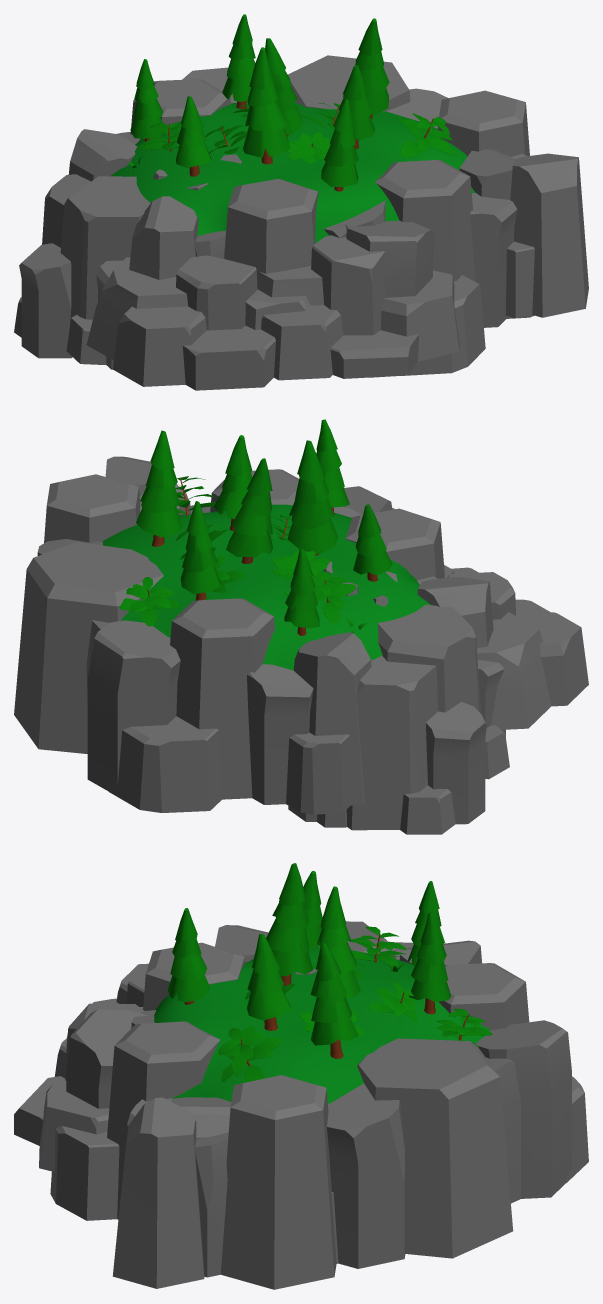
Rendered from Zone2_Empty_Island1.fbx.
The picture shows the model from 3 angles, top to bottom: view 1: azimuth 30°, elevation 25°; view 2: azimuth 150°, elevation 25°; view 3: azimuth 270°, elevation 25°; orthographic projection. The views are drawn at different scales.
Parts seen in each view (by area): view 1: rock_cliff131, rock_cliff129, rock_cliff128, pSphere12, rock_cliff132, rock_cliff126, rock_cliff130, rock_cliff127, rock_cliff133, pine_tree_123, pine_tree_119, pine_tree_120 (+8 smaller); view 2: rock_cliff127, rock_cliff130, rock_cliff133, pSphere12, rock_cliff131, rock_cliff126, rock_cliff132, rock_cliff128, pine_tree_123, pine_tree_120, pine_tree_125, pine_tree_126 (+8 smaller); view 3: rock_cliff128, rock_cliff133, rock_cliff129, pSphere12, rock_cliff127, rock_cliff131, rock_cliff132, pine_tree_123, pine_tree_120, pine_tree_122, pine_tree_119, pine_tree_126 (+8 smaller).
Part boxes in pixels (x1=…): rock_cliff131: x1=86, y1=235, x2=459, y2=390; rock_cliff129: x1=345, y1=149, x2=534, y2=377; rock_cliff128: x1=386, y1=88, x2=588, y2=318; pSphere12: x1=110, y1=102, x2=475, y2=243; rock_cliff132: x1=129, y1=179, x2=385, y2=279; rock_cliff126: x1=60, y1=176, x2=150, y2=369; rock_cliff130: x1=14, y1=174, x2=90, y2=358; rock_cliff127: x1=68, y1=67, x2=246, y2=181; rock_cliff133: x1=288, y1=55, x2=410, y2=111; pine_tree_123: x1=243, y1=47, x2=290, y2=164; pine_tree_119: x1=321, y1=99, x2=358, y2=191; pine_tree_120: x1=355, y1=18, x2=389, y2=119; rock_cliff127: x1=87, y1=598, x2=371, y2=814; rock_cliff130: x1=288, y1=656, x2=486, y2=834; rock_cliff133: x1=14, y1=542, x2=163, y2=753; pSphere12: x1=102, y1=504, x2=430, y2=670; rock_cliff131: x1=392, y1=508, x2=588, y2=729; rock_cliff126: x1=377, y1=604, x2=509, y2=779; rock_cliff132: x1=333, y1=506, x2=493, y2=648; rock_cliff128: x1=37, y1=456, x2=151, y2=555; pine_tree_123: x1=287, y1=440, x2=338, y2=555; pine_tree_120: x1=136, y1=430, x2=182, y2=546; pine_tree_125: x1=226, y1=458, x2=272, y2=563; pine_tree_126: x1=180, y1=501, x2=220, y2=600; rock_cliff128: x1=112, y1=1075, x2=405, y2=1289; rock_cliff133: x1=357, y1=1038, x2=520, y2=1258; rock_cliff129: x1=50, y1=1009, x2=231, y2=1220; pSphere12: x1=154, y1=947, x2=490, y2=1103; rock_cliff127: x1=399, y1=940, x2=588, y2=1198; rock_cliff131: x1=14, y1=963, x2=148, y2=1171; rock_cliff132: x1=131, y1=925, x2=268, y2=1027; pine_tree_123: x1=266, y1=863, x2=312, y2=985; pine_tree_120: x1=310, y1=942, x2=358, y2=1058; pine_tree_122: x1=247, y1=934, x2=291, y2=1030; pine_tree_119: x1=167, y1=908, x2=210, y2=1004; pine_tree_126: x1=409, y1=912, x2=451, y2=1014.
Bounding box in the file's own units: 5752 × 3357 × 5622.
